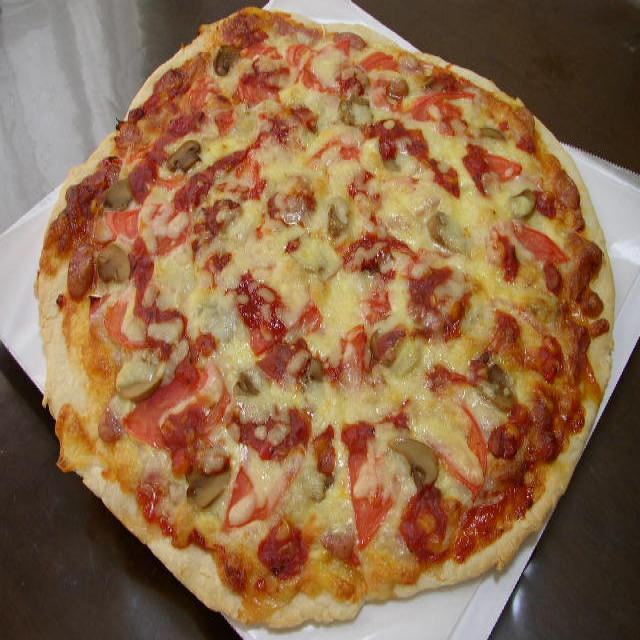Pizza: (40, 6, 612, 610)
